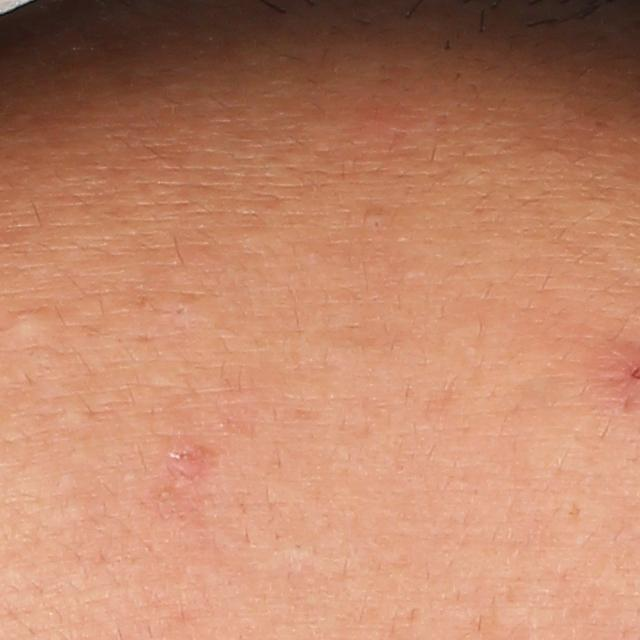comedo: (0, 303, 47, 346), (362, 210, 384, 228)
